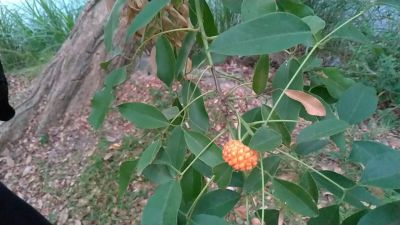eggs: (223, 140, 261, 171)
